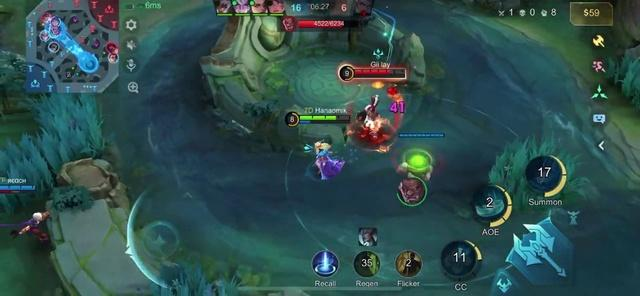Adc_Aliado: (109, 52, 117, 64)
Arbusto: (0, 94, 103, 196), (488, 133, 588, 210), (0, 194, 29, 212)
Balmont: (344, 95, 398, 152)
Dyrrot: (0, 211, 49, 242)
Exp_Aliado: (39, 31, 48, 42)
Exp_Enemigo: (42, 12, 52, 22)
HP_Aliado: (0, 185, 36, 190)
HP_Enemigo: (354, 70, 405, 74)
HP_Heroe_Principal: (300, 114, 352, 121)
Jungla_Aliado: (48, 43, 60, 53)
Jungla_Enemigo: (51, 26, 60, 33)
Mana: (298, 120, 351, 125)
Mid_Aliado: (49, 32, 60, 38)
Minimapa: (25, 0, 120, 93)
Roamer_Aliado: (52, 18, 60, 26)
Roamer_Enemigo: (105, 42, 116, 52)
Vexana: (313, 141, 344, 179)
